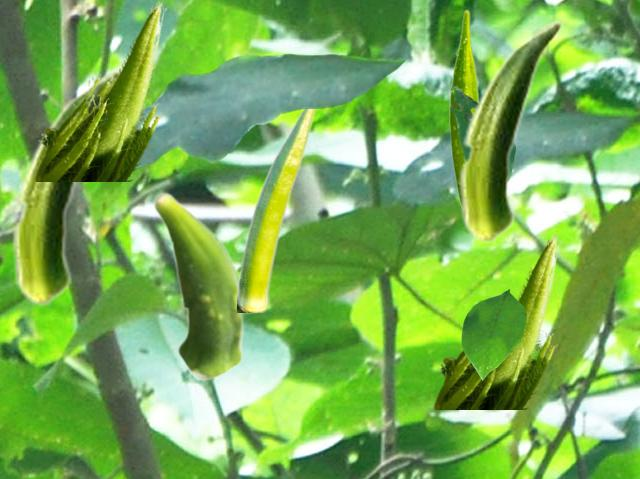okra: (11, 69, 117, 306), (32, 0, 166, 180), (458, 20, 562, 243), (431, 233, 561, 408), (152, 191, 245, 380), (237, 110, 316, 311), (449, 9, 479, 203)
